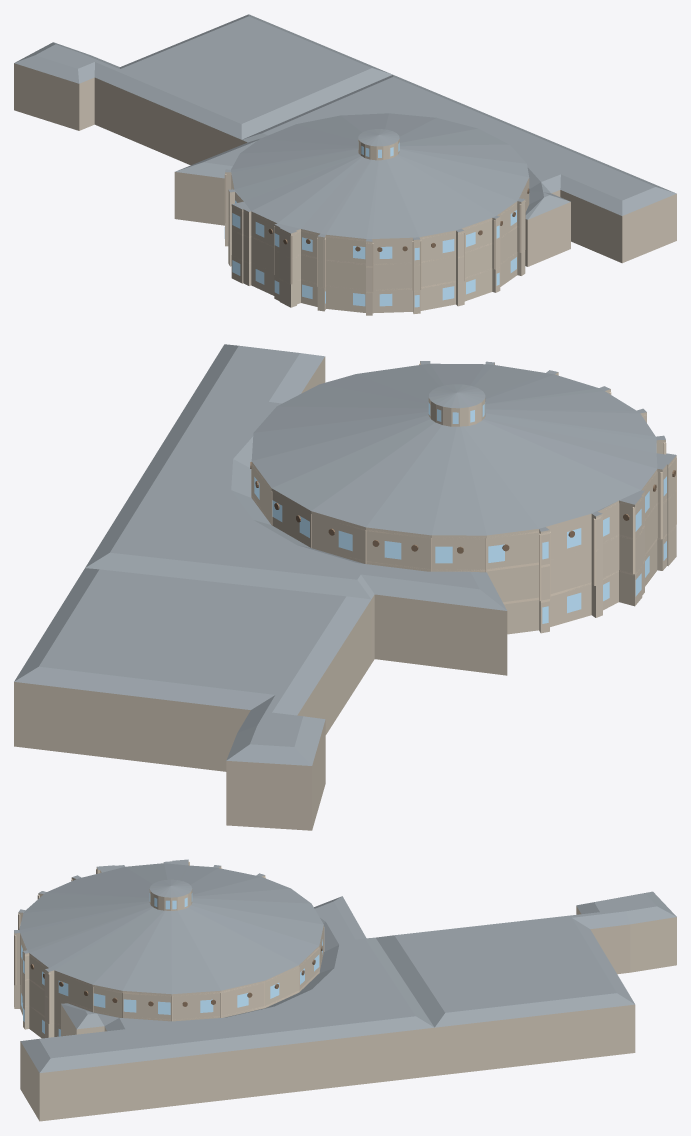
3 renders of one model, top to bottom at view 1: azimuth 30°, elevation 25°; view 2: azimuth 150°, elevation 25°; view 3: azimuth 270°, elevation 25°, orthographic. The views are drawn at different scales.
Parts seen in each view (by area): view 1: roof, stone, window, trim; view 2: roof, stone, window, trim; view 3: roof, stone, window, trim.
Part boxes in pixels (bbox=[...]): roof: bbox=[14, 14, 676, 241]; stone: bbox=[14, 63, 676, 315]; window: bbox=[224, 142, 516, 307]; trim: bbox=[224, 173, 528, 293]; roof: bbox=[14, 344, 676, 765]; stone: bbox=[14, 356, 676, 830]; window: bbox=[254, 402, 666, 623]; trim: bbox=[251, 362, 676, 604]; roof: bbox=[14, 859, 676, 1072]; stone: bbox=[14, 862, 676, 1121]; window: bbox=[21, 893, 322, 1036]; trim: bbox=[14, 861, 324, 1025].
Size of the model in its own units: 57.86 by 17.2 by 87.05.
